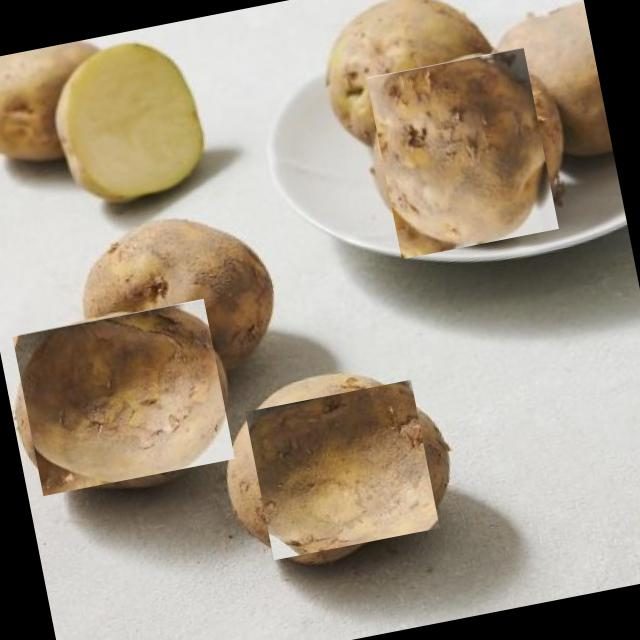potato: (12, 299, 235, 496), (362, 52, 564, 254), (245, 378, 440, 560)
